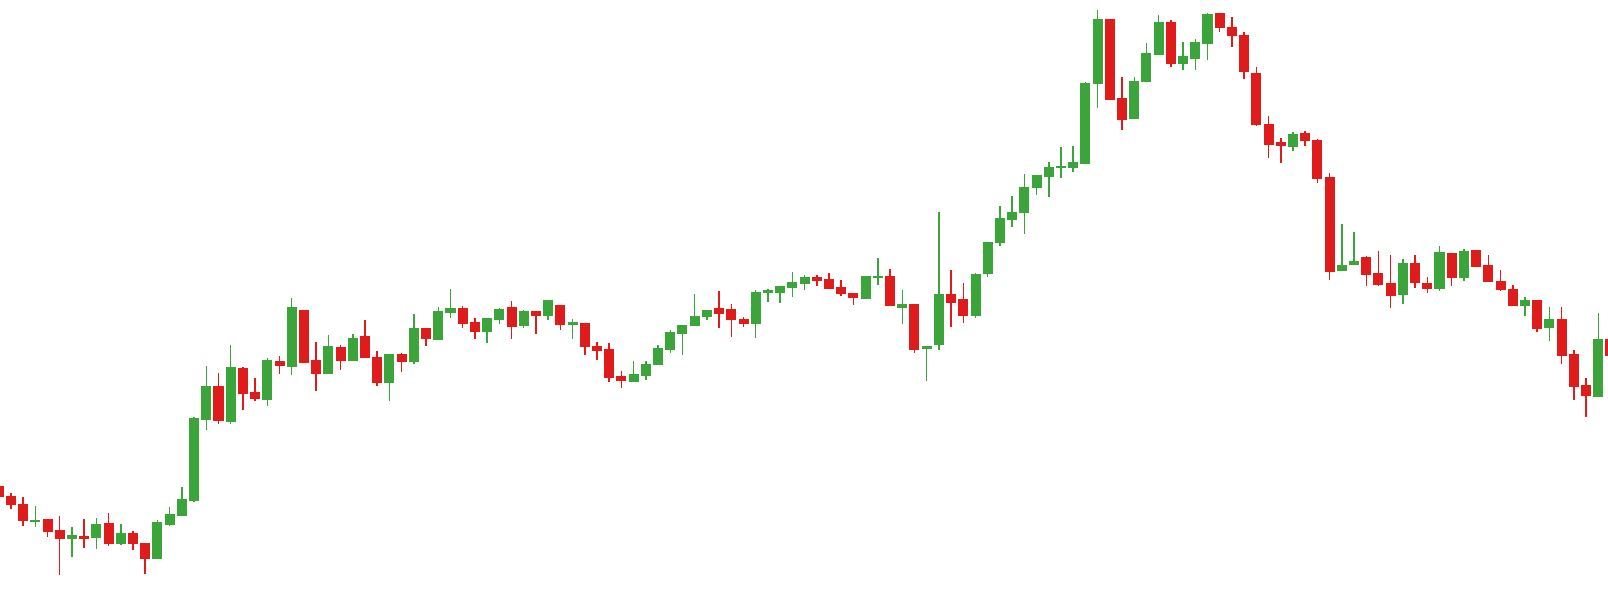buy: (750, 278, 946, 391), (309, 339, 397, 407)
sell: (1151, 7, 1227, 61)
